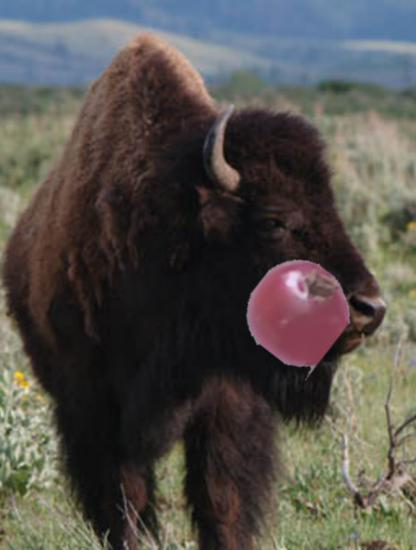Redcurrant: (246, 260, 350, 364)
